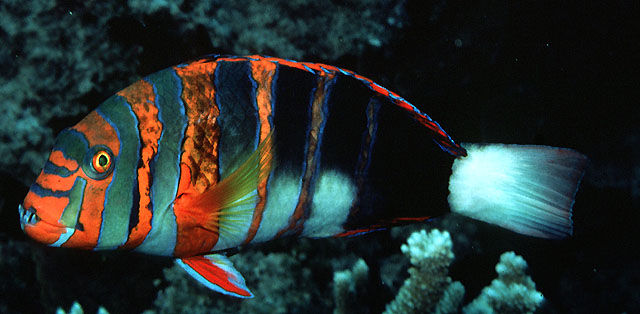fish: (19, 55, 585, 298)
